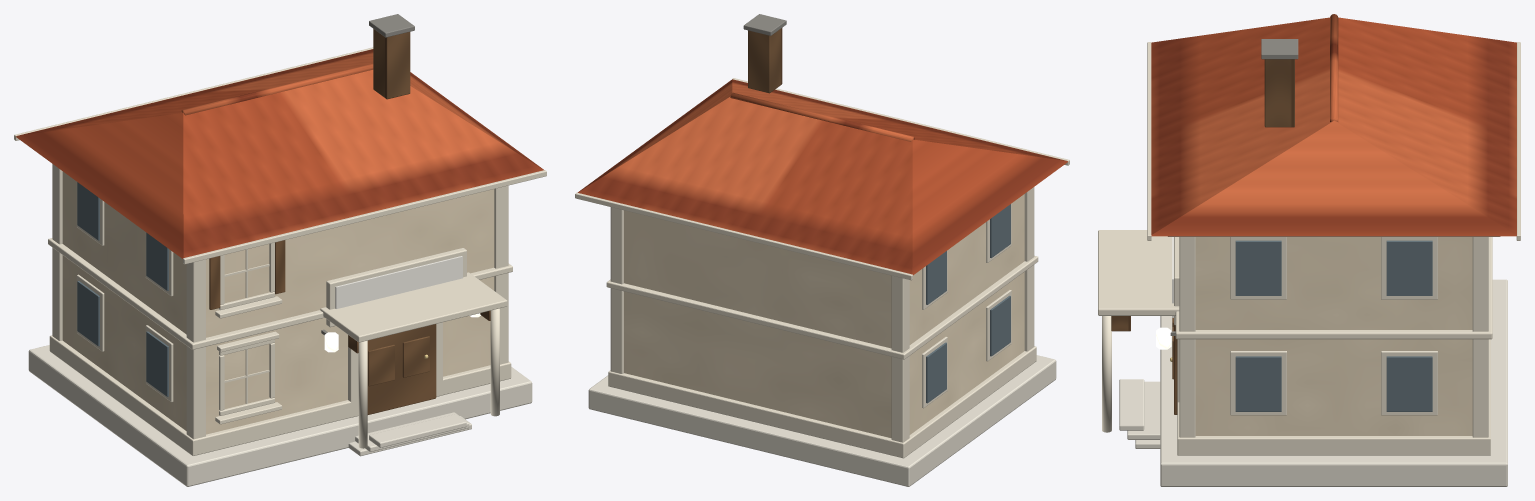
Rendered from topics.glb.
3 views of the same model, side by side, from view 1: azimuth 30°, elevation 25°; view 2: azimuth 150°, elevation 25°; view 3: azimuth 270°, elevation 25° (orthographic). The views are drawn at different scales.
Parts seen in each view (by area): view 1: topics_wall, topics_roof_front, topics_plinth, topics_roof_left, topics_skirt, topics_canopy, topics_roof_back, topics_pil, topics_door, topics_band, topics_signface, topics_roof_eaveF (+25 smaller); view 2: topics_wall, topics_roof_back, topics_plinth, topics_roof_left, topics_skirt, topics_band, topics_roof_front, topics_pil.001, topics_roof_eaveB, topics_pil.003, topics_chim, topics_pil (+8 smaller); view 3: topics_wall, topics_roof_back, topics_roof_front, topics_roof_right, topics_plinth, topics_skirt, topics_canopy, topics_band, topics_pil.002, topics_pil.003, topics_sf0_1_1, topics_sf0_0_1 (+14 smaller).
Boxes of the visible parts, x1,y1,x2,y2 form: topics_wall: [62, 171, 494, 434]; topics_roof_front: [183, 70, 543, 257]; topics_plinth: [28, 345, 532, 486]; topics_roof_left: [16, 113, 183, 258]; topics_skirt: [49, 335, 511, 455]; topics_canopy: [320, 272, 507, 342]; topics_roof_back: [19, 49, 373, 135]; topics_pil: [186, 259, 205, 439]; topics_door: [367, 324, 436, 414]; topics_band: [48, 238, 512, 349]; topics_signface: [335, 256, 462, 308]; topics_roof_eaveF: [183, 170, 546, 264]; topics_wall: [624, 194, 1024, 438]; topics_roof_back: [578, 96, 912, 274]; topics_plinth: [588, 355, 1056, 486]; topics_roof_left: [912, 139, 1067, 275]; topics_skirt: [608, 346, 1036, 458]; topics_band: [606, 255, 1038, 359]; topics_roof_front: [732, 79, 1066, 160]; topics_pil.001: [891, 275, 909, 442]; topics_roof_eaveB: [575, 192, 912, 280]; topics_pil.003: [610, 207, 623, 373]; topics_chim: [748, 28, 782, 93]; topics_pil: [1024, 187, 1034, 351]; topics_wall: [1195, 237, 1472, 435]; topics_roof_back: [1335, 17, 1516, 234]; topics_roof_front: [1151, 17, 1332, 234]; topics_roof_right: [1151, 121, 1516, 236]; topics_plinth: [1160, 279, 1507, 486]; topics_skirt: [1177, 339, 1490, 455]; topics_canopy: [1098, 230, 1179, 315]; topics_band: [1175, 237, 1492, 339]; topics_pil.002: [1179, 237, 1195, 437]; topics_pil.003: [1472, 237, 1488, 437]; topics_sf0_1_1: [1386, 356, 1432, 411]; topics_sf0_0_1: [1235, 356, 1281, 411].
Bounding box in the file's own units: 12.9 × 12.28 × 11.91.
12 materials, 4 textured.
